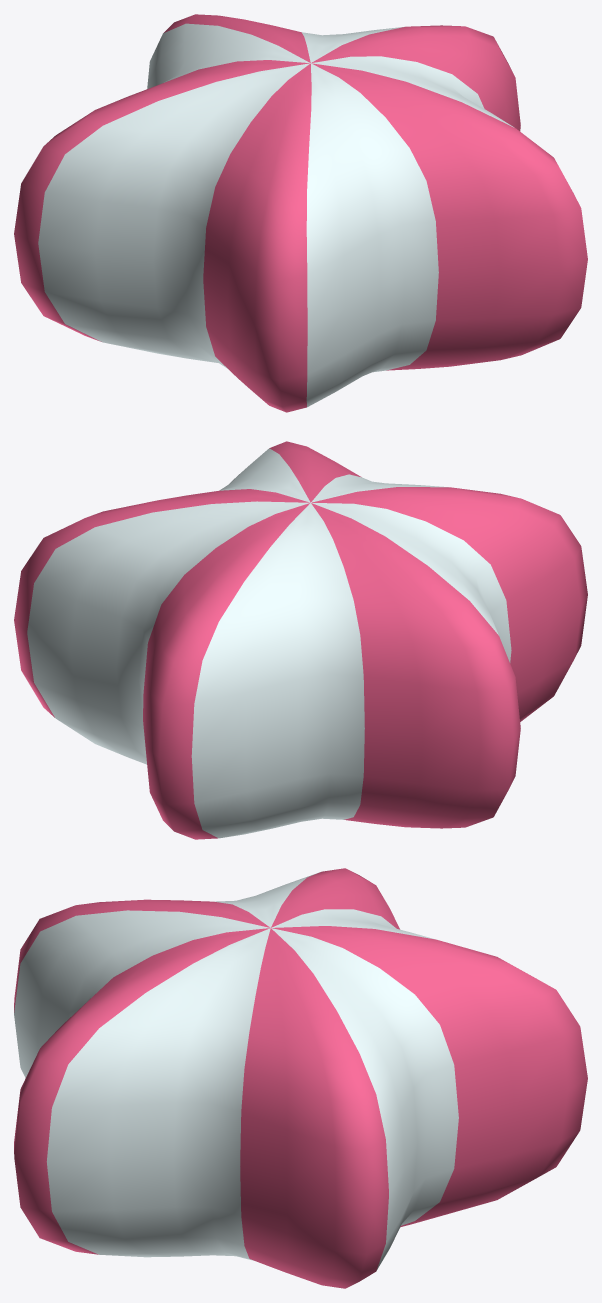
File: Mintstar_06.fbx
3 views of the same model, one above another, from view 1: azimuth 30°, elevation 25°; view 2: azimuth 150°, elevation 25°; view 3: azimuth 270°, elevation 25° (orthographic). The views are drawn at different scales.
Visible parts, largest first — view 1: Mintstar_06_LOD0; view 2: Mintstar_06_LOD0; view 3: Mintstar_06_LOD0.
Part boxes in pixels (x1,y1,x2,y2): Mintstar_06_LOD0: (14, 14, 587, 412); Mintstar_06_LOD0: (14, 441, 587, 839); Mintstar_06_LOD0: (14, 868, 587, 1288).
Size of what is drawn, in the model's own units: 447 by 246 by 426.
